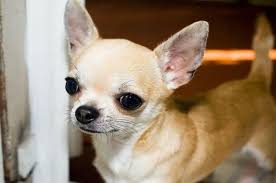chihuahua: (52, 1, 263, 176)
